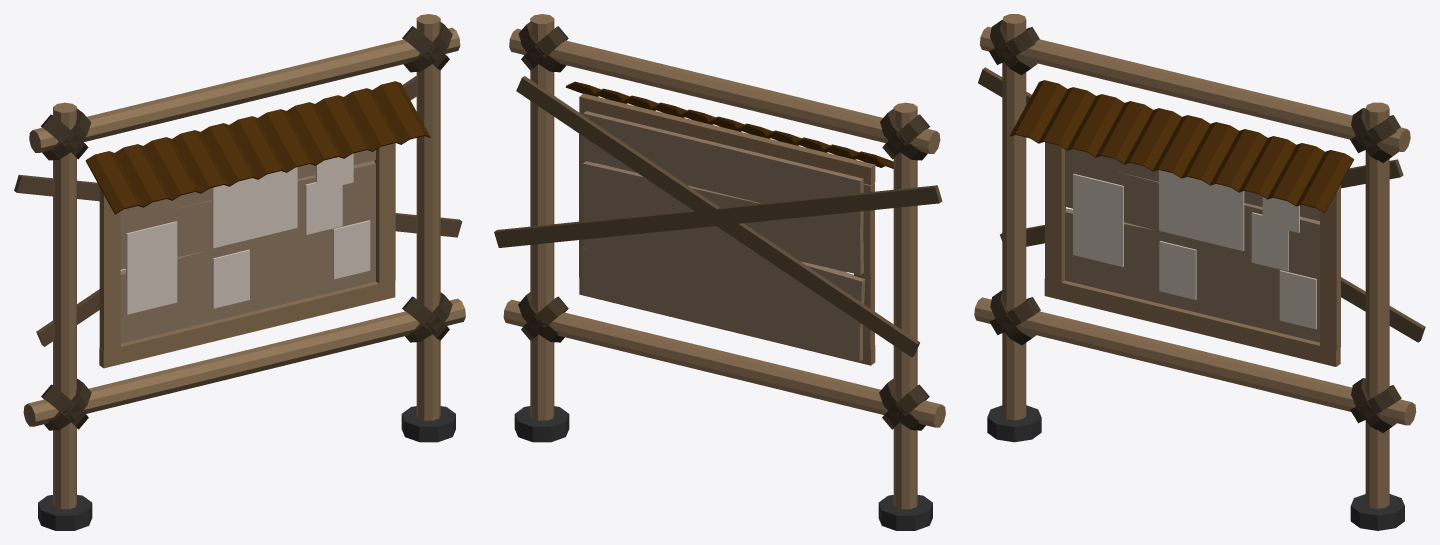
File: QUEST BOARD.fbx
3 renders of one model, left to right at view 1: azimuth 30°, elevation 25°; view 2: azimuth 150°, elevation 25°; view 3: azimuth 330°, elevation 25°, orthographic.
Parts seen in each view (by area): view 1: pCube17, pCylinder4, pCylinder1, pCylinder3, pCylinder5, pCube3, pCube4, pCube6, pCube12, pCube2, pCube11, pCube7 (+12 smaller); view 2: pCube4, pCube1, pCube3, pCube2, pCylinder4, pCylinder1, pCube9, pCube10, pCylinder3, pCylinder5, pCube5, pCube17 (+7 smaller); view 3: pCube17, pCylinder4, pCylinder1, pCylinder3, pCylinder5, pCube4, pCube6, pCube3, pCube12, pCube2, pCube11, pCylinder7 (×4) (+12 smaller).
Part boxes in pixels (x1=…): pCube17: x1=85, y1=81, x2=430, y2=214; pCylinder4: x1=23, y1=298, x2=465, y2=426; pCylinder1: x1=29, y1=27, x2=460, y2=152; pCylinder3: x1=416, y1=14, x2=440, y2=420; pCylinder5: x1=53, y1=102, x2=76, y2=509; pCube3: x1=120, y1=202, x2=375, y2=321; pCube4: x1=120, y1=248, x2=375, y2=343; pCube6: x1=99, y1=280, x2=395, y2=368; pCube12: x1=212, y1=167, x2=297, y2=248; pCube2: x1=120, y1=160, x2=375, y2=269; pCube11: x1=126, y1=221, x2=177, y2=314; pCube7: x1=99, y1=187, x2=120, y2=350; pCube4: x1=582, y1=247, x2=862, y2=361; pCube1: x1=583, y1=111, x2=864, y2=227; pCube3: x1=583, y1=202, x2=865, y2=327; pCube2: x1=582, y1=161, x2=863, y2=274; pCylinder4: x1=503, y1=299, x2=945, y2=427; pCylinder1: x1=509, y1=28, x2=940, y2=153; pCube9: x1=494, y1=185, x2=942, y2=247; pCube10: x1=516, y1=76, x2=919, y2=357; pCylinder3: x1=530, y1=14, x2=554, y2=420; pCylinder5: x1=893, y1=102, x2=917, y2=509; pCube5: x1=579, y1=93, x2=875, y2=185; pCube17: x1=565, y1=81, x2=893, y2=168; pCube17: x1=1009, y1=80, x2=1353, y2=213; pCylinder4: x1=974, y1=297, x2=1416, y2=425; pCylinder1: x1=980, y1=26, x2=1410, y2=151; pCylinder3: x1=1365, y1=102, x2=1389, y2=508; pCylinder5: x1=1002, y1=14, x2=1026, y2=420; pCube4: x1=1065, y1=247, x2=1319, y2=342; pCube6: x1=1044, y1=279, x2=1340, y2=366; pCube3: x1=1065, y1=208, x2=1319, y2=309; pCube12: x1=1159, y1=170, x2=1244, y2=250; pCube2: x1=1065, y1=158, x2=1319, y2=267; pCube11: x1=1073, y1=174, x2=1124, y2=266; pCylinder7 (×4): x1=990, y1=20, x2=1398, y2=432.
Size of the model in its own units: 7.94 by 7.02 by 1.32.
